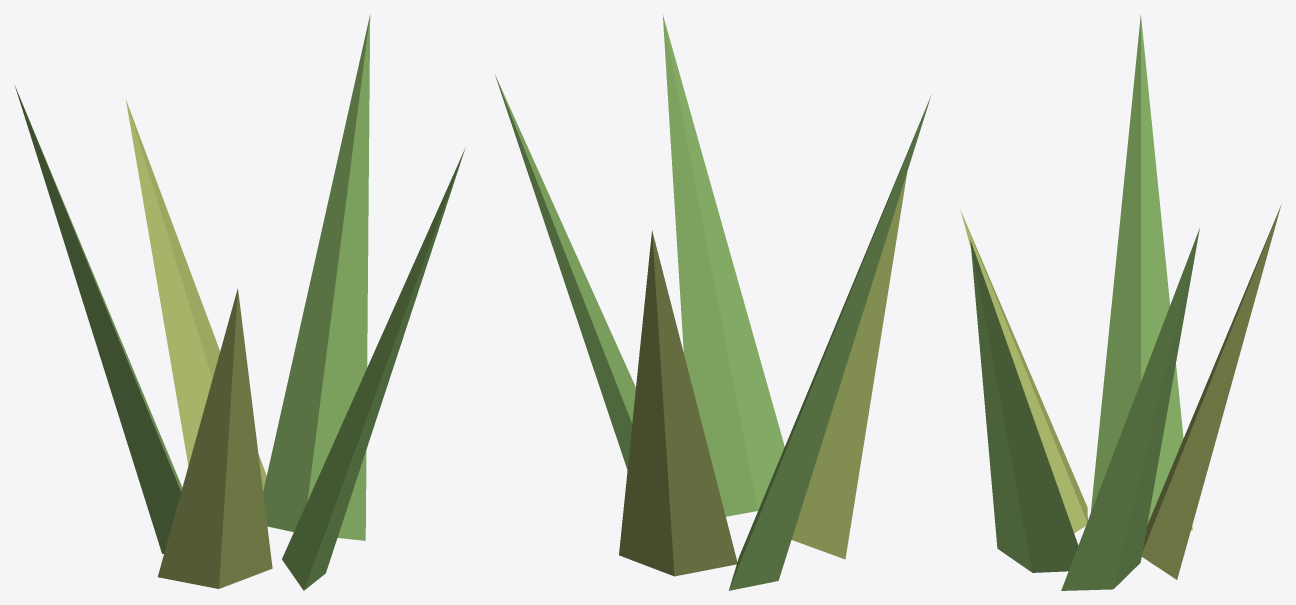
Rendered from seaweed-clump.glb.
3 views of the same model, side by side, from view 1: azimuth 30°, elevation 25°; view 2: azimuth 150°, elevation 25°; view 3: azimuth 270°, elevation 25° (orthographic). The views are drawn at different scales.
Visible parts, largest first — view 1: ocean-seaweed-clump; view 2: ocean-seaweed-clump; view 3: ocean-seaweed-clump.
Part boxes in pixels (<box>): ocean-seaweed-clump: <box>14,14,465,590</box>; ocean-seaweed-clump: <box>495,14,931,590</box>; ocean-seaweed-clump: <box>960,15,1281,590</box>.
Bounding box in the file's own units: 0.385 × 0.4785 × 0.3099.
